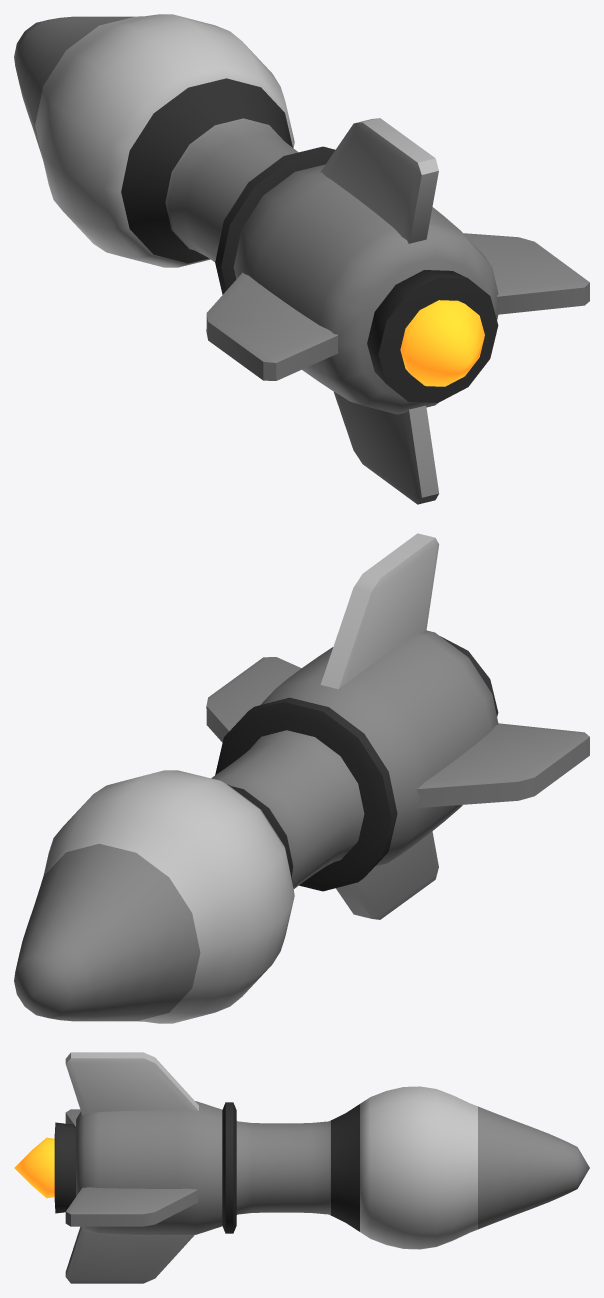
File: shot_missile.glb
3 views of the same model, one above another, from view 1: azimuth 30°, elevation 25°; view 2: azimuth 150°, elevation 25°; view 3: azimuth 270°, elevation 25° (orthographic). The views are drawn at different scales.
Parts seen in each view (by area): view 1: ms_body0, ms_body2, ms_body1, ms_fin.001, ms_fin.002, ms_nozzle, ms_fin.003, ms_fin, ms_flame, ms_body3, ms_ring; view 2: ms_body0, ms_body2, ms_body3, ms_ring, ms_fin.001, ms_fin.002, ms_fin.003, ms_fin, ms_body1; view 3: ms_body0, ms_body2, ms_body3, ms_fin.001, ms_fin.003, ms_fin, ms_body1, ms_ring, ms_nozzle, ms_flame.
Part boxes in pixels (left/top/right/bottom): ms_body0: left=165, top=118, right=498, bottom=414; ms_body2: left=35, top=14, right=294, bottom=267; ms_body1: left=121, top=78, right=292, bottom=263; ms_fin.001: left=320, top=118, right=438, bottom=243; ms_fin.002: left=206, top=272, right=338, bottom=380; ms_nozzle: left=367, top=270, right=498, bottom=402; ms_fin.003: left=334, top=392, right=439, bottom=504; ms_fin: left=463, top=233, right=589, bottom=314; ms_flame: left=400, top=300, right=484, bottom=386; ms_body3: left=14, top=16, right=134, bottom=158; ms_ring: left=215, top=146, right=335, bottom=294; ms_body0: left=211, top=630, right=498, bottom=888; ms_body2: left=43, top=770, right=294, bottom=1023; ms_body3: left=14, top=843, right=200, bottom=1021; ms_ring: left=215, top=697, right=397, bottom=891; ms_fin.001: left=320, top=533, right=439, bottom=689; ms_fin.002: left=416, top=723, right=589, bottom=808; ms_fin.003: left=336, top=831, right=438, bottom=919; ms_fin: left=206, top=657, right=301, bottom=742; ms_body1: left=227, top=784, right=293, bottom=884; ms_body0: left=76, top=1101, right=330, bottom=1235; ms_body2: left=360, top=1086, right=477, bottom=1249; ms_body3: left=478, top=1106, right=589, bottom=1229; ms_fin.001: left=65, top=1052, right=198, bottom=1115; ms_fin.003: left=65, top=1226, right=194, bottom=1283; ms_fin: left=65, top=1187, right=198, bottom=1226; ms_body1: left=331, top=1104, right=359, bottom=1231; ms_ring: left=222, top=1102, right=236, bottom=1233; ms_nozzle: left=54, top=1122, right=75, bottom=1213; ms_flame: left=14, top=1137, right=54, bottom=1198.
Size of the model in its own units: 6 by 6 by 13.9.
